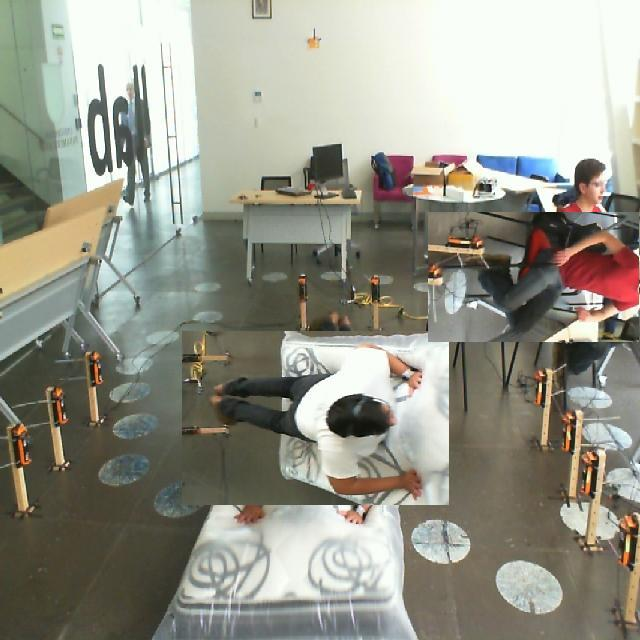Fall: (159, 314, 436, 528)
NotFall: (475, 167, 598, 400)
